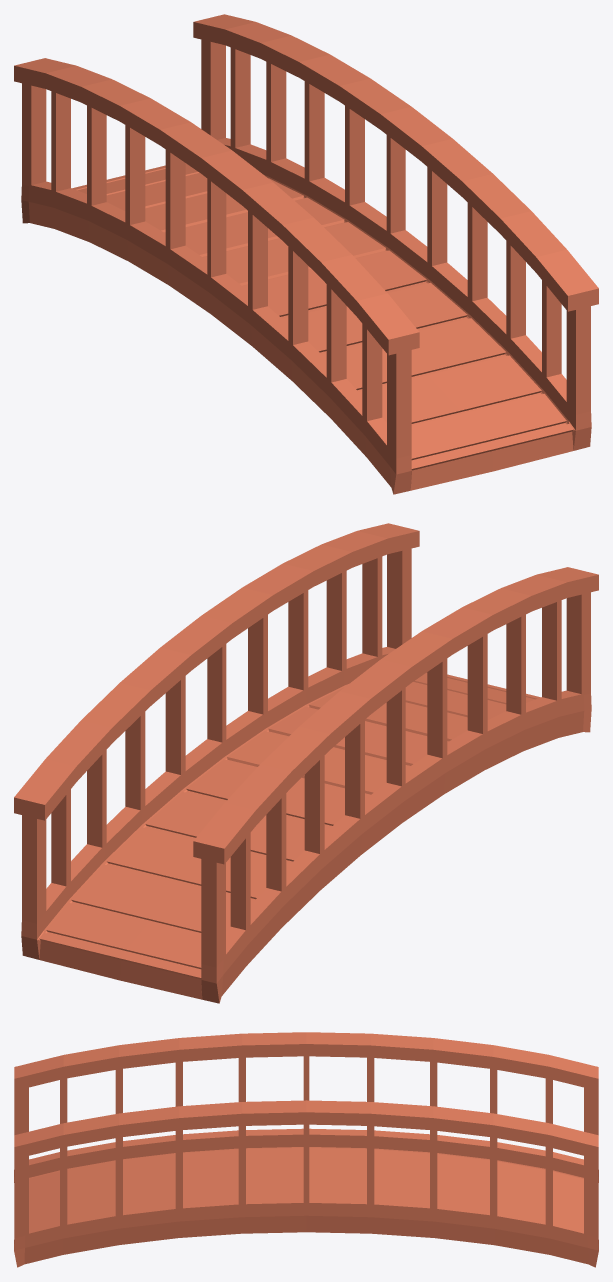
Rendered from silta.fbx.
3 renders of one model, top to bottom at view 1: azimuth 30°, elevation 25°; view 2: azimuth 150°, elevation 25°; view 3: azimuth 270°, elevation 25°, orthographic. The views are drawn at different scales.
Parts seen in each view (by area): view 1: Cube.001; view 2: Cube.001; view 3: Cube.001.
Part boxes in pixels (x1,y1,x2,y2): Cube.001: (14,14,598,494); Cube.001: (14,523,598,1003); Cube.001: (14,1032,598,1267).
Size of the model in its own units: 313 by 288 by 967.
